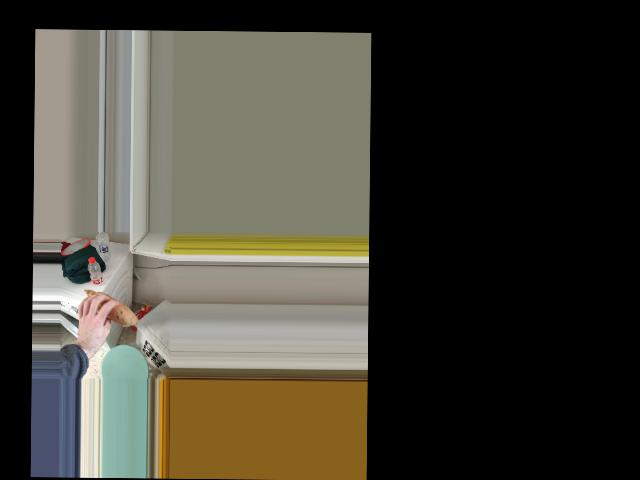sweet_potato: (81, 291, 136, 327)
